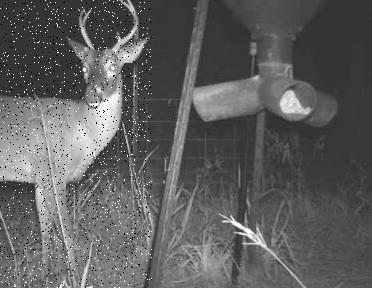Deer: (0, 0, 152, 288)
